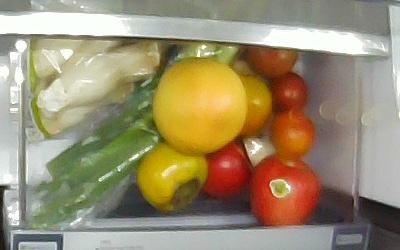apple: (249, 153, 318, 225), (203, 143, 248, 197)
grapefruit: (153, 57, 246, 154)
persimmon: (138, 144, 208, 211)
prune: (238, 75, 271, 137), (271, 110, 314, 156), (247, 45, 298, 78), (268, 71, 307, 114)
